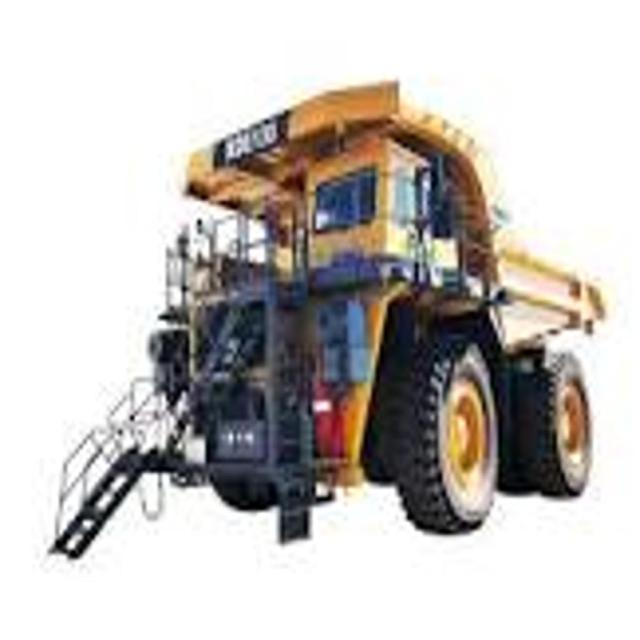dump_truck: (144, 104, 614, 540)
